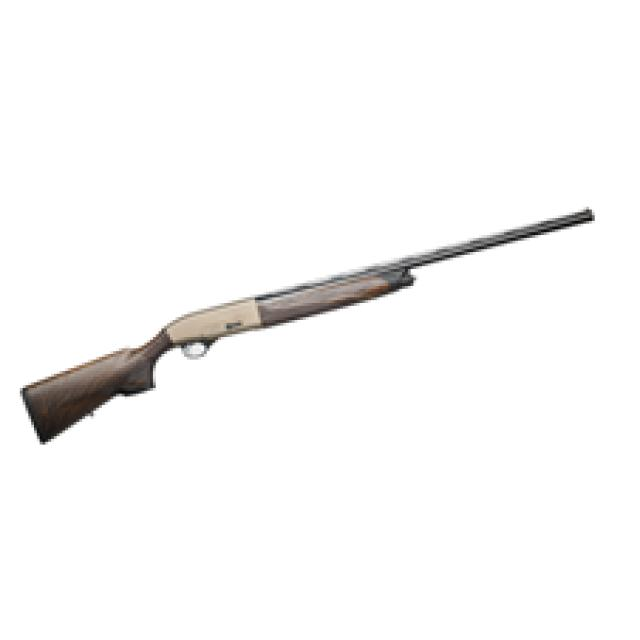rifle: (15, 208, 599, 457)
